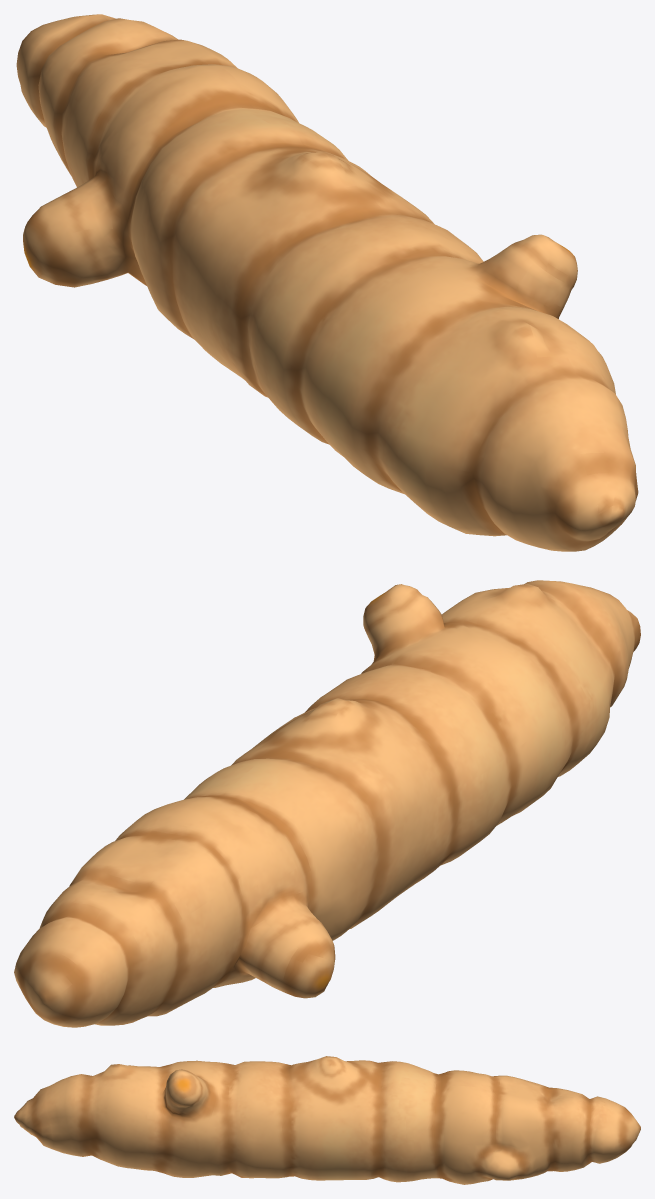
The model's file is Turmeric_Whole.fbx.
3 renders of one model, top to bottom at view 1: azimuth 30°, elevation 25°; view 2: azimuth 150°, elevation 25°; view 3: azimuth 270°, elevation 25°, orthographic. The views are drawn at different scales.
Parts seen in each view (by area): view 1: Retopo_Sphere.001; view 2: Retopo_Sphere.001; view 3: Retopo_Sphere.001.
Part boxes in pixels (x1,y1,x2,y2): Retopo_Sphere.001: (16, 14, 638, 551); Retopo_Sphere.001: (14, 580, 640, 1027); Retopo_Sphere.001: (14, 1056, 640, 1184).
Size of the model in its own units: 45.77 by 38.84 by 181.
